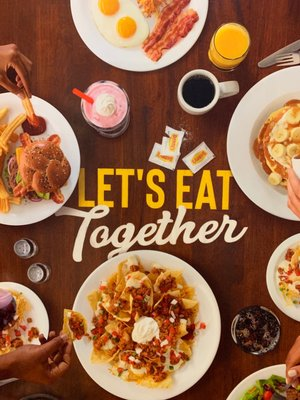burger: (257, 38, 300, 68)
pizza: (208, 22, 250, 71)
salad: (4, 61, 45, 134)
sandwich: (257, 39, 300, 68)
sushi: (266, 232, 300, 323)
